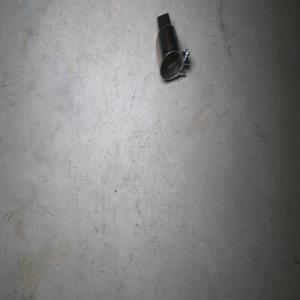MetalPart: (155, 11, 190, 81)
